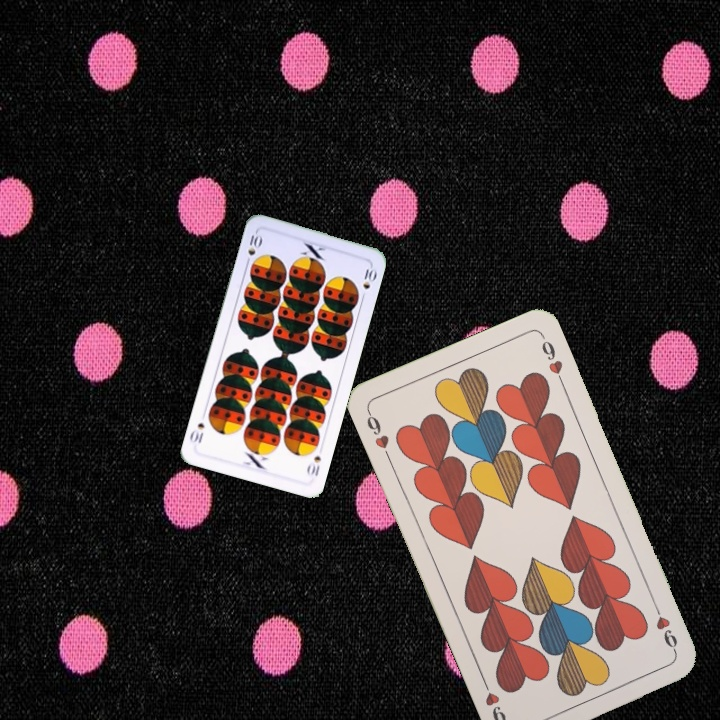H9: (362, 406, 393, 462), (649, 599, 680, 655)
S10: (242, 231, 264, 268), (303, 452, 324, 479)
